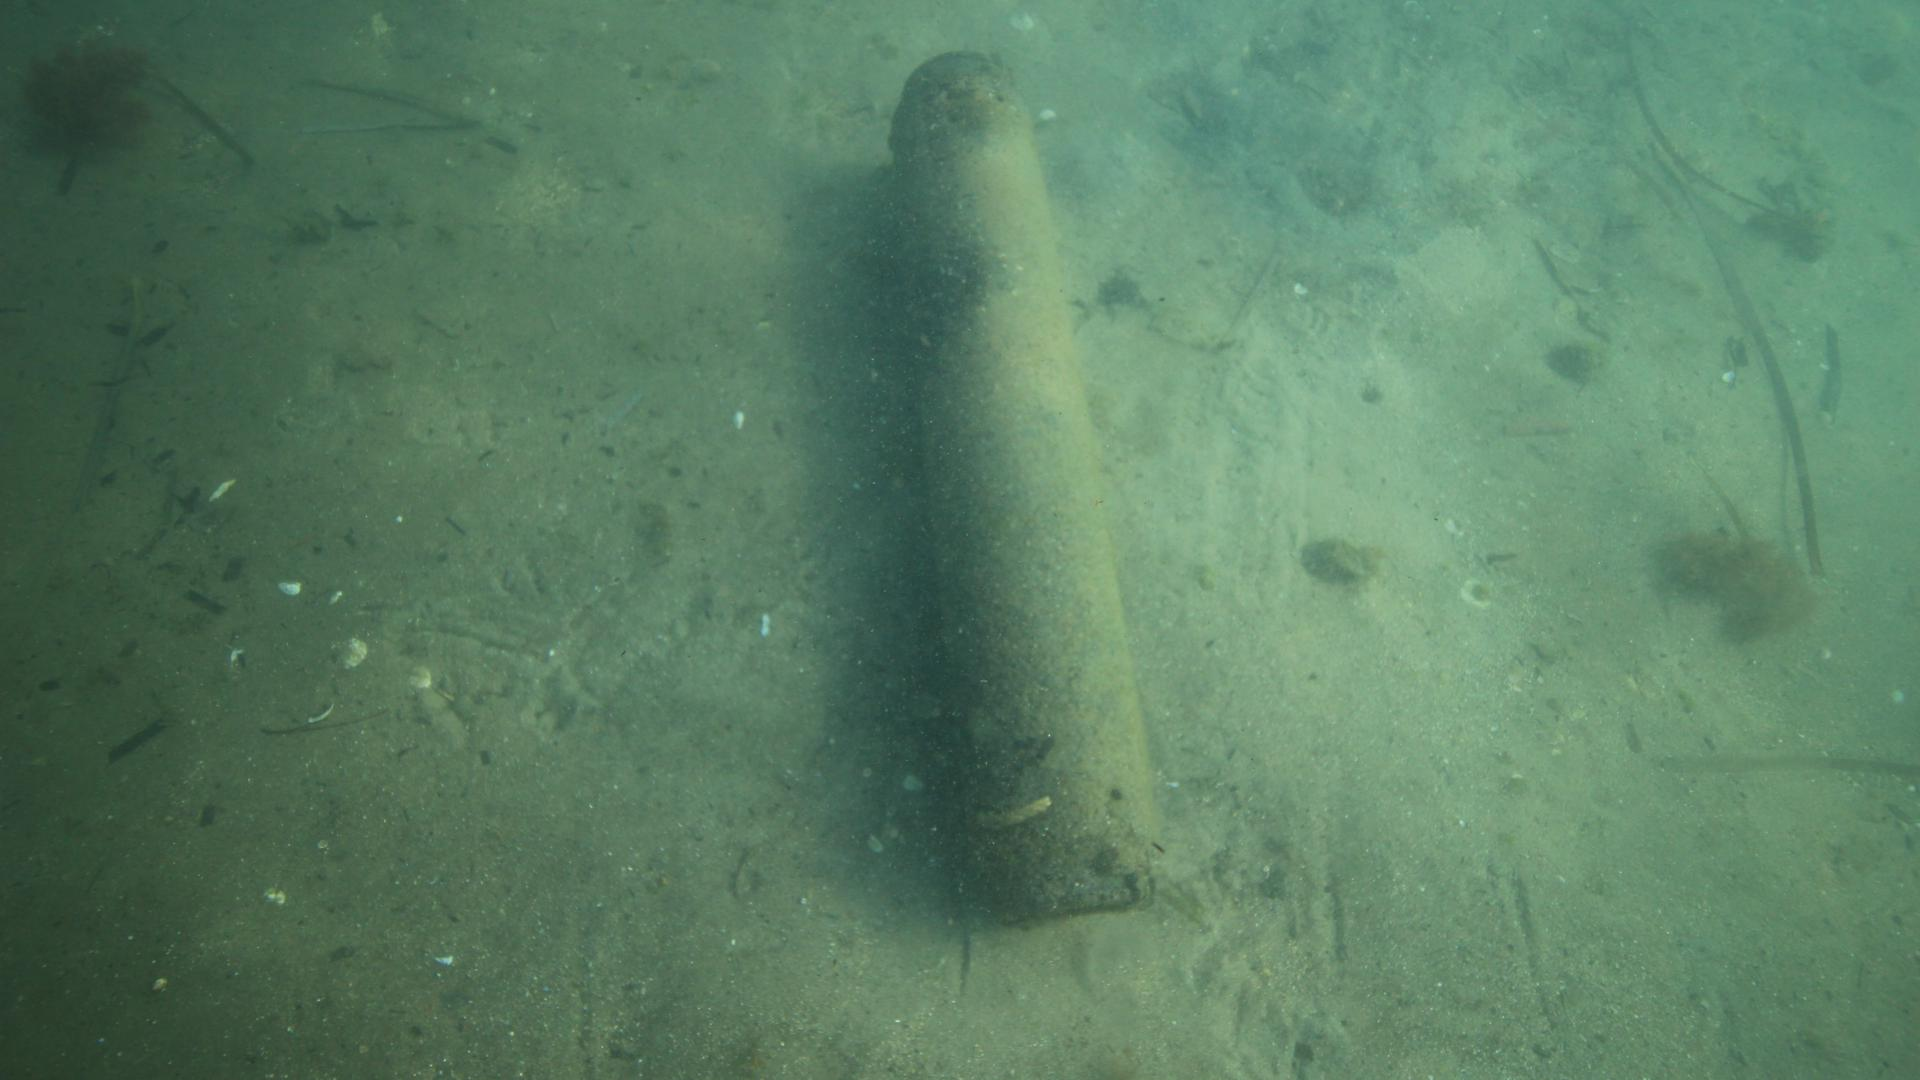eel fish trap: (886, 49, 1164, 928)
